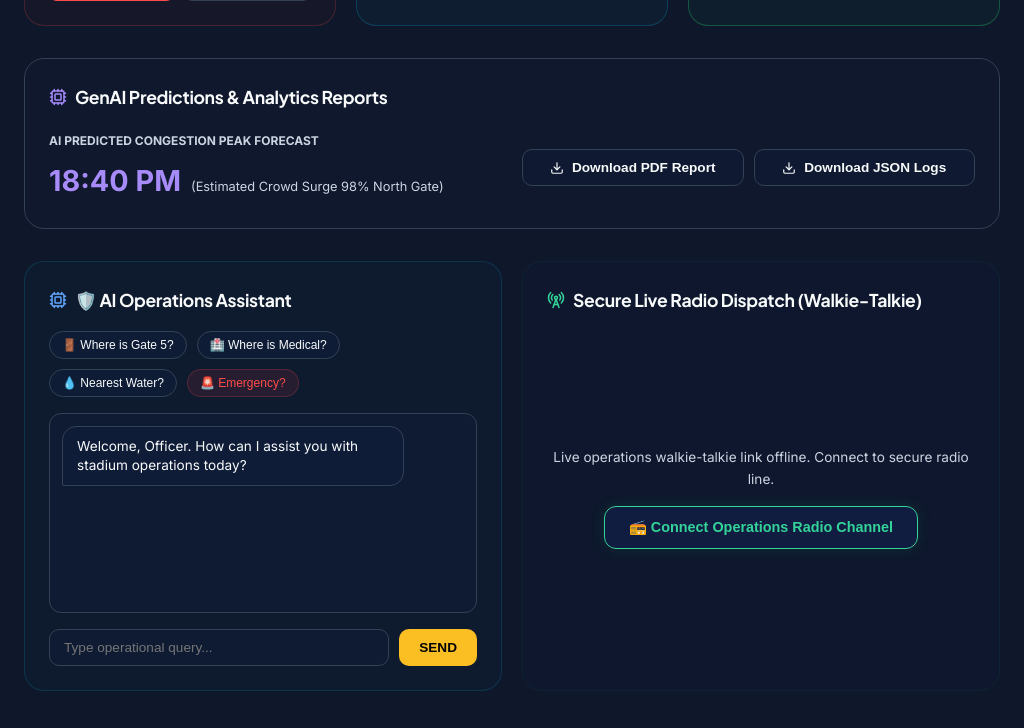
AuthorityDashboard Component › interacts with AI Operations Assistant chatbot successfully
(page scrolled)
Expected: the heading "🛡️ AI Operations Assistant" is shown, [49,289,292,311]
Step 1. Click the button "🚪 Where is Gate 5?" → (118, 344), box [49,330,187,358]
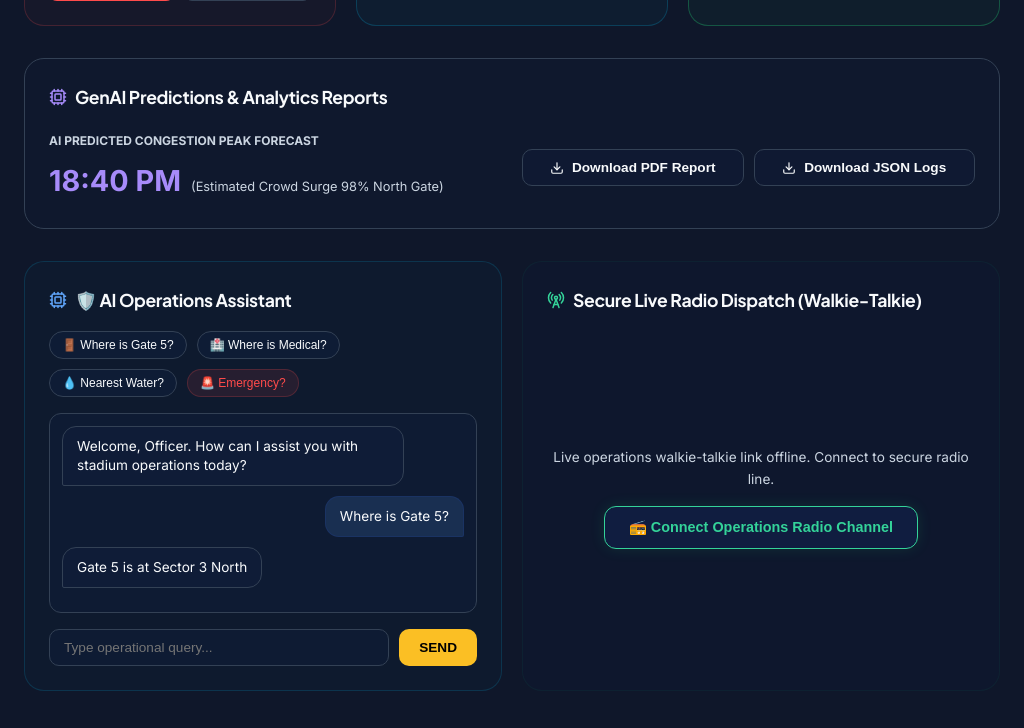
Now the text "Gate 5 is at Sector 3 North" is shown, box [62,547,262,588]
